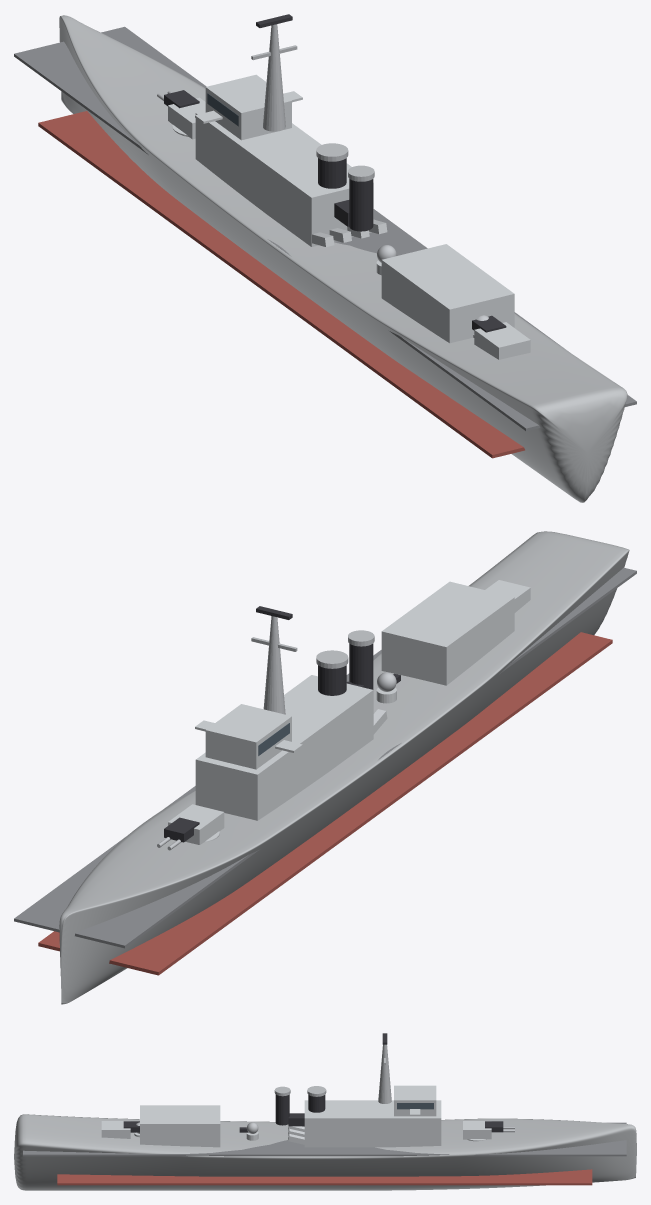
Rendered from ws-destroyer-01.fbx.
3 views of the same model, one above another, from view 1: azimuth 30°, elevation 25°; view 2: azimuth 150°, elevation 25°; view 3: azimuth 270°, elevation 25° (orthographic). The views are drawn at different scales.
Visible parts, largest first — view 1: ws-destroyer-01, waterline-belt, deckhouse, hangar, main-deck, bridge, main-mast, turret_aft-housing, funnel-2, turret_fwd-housing, funnel-1; view 2: ws-destroyer-01, waterline-belt, deckhouse, hangar, main-deck, bridge, main-mast, turret_fwd-housing, funnel-2, funnel-1, turret_aft-housing; view 3: ws-destroyer-01, waterline-belt, deckhouse, main-deck, hangar, bridge, main-mast, turret_fwd-housing, turret_aft-housing, funnel-2, funnel-1, bridge-glass.
Boxes of the visible parts, box(x1,y1,x2,y2) form: ws-destroyer-01: box(59, 15, 627, 502); waterline-belt: box(38, 111, 524, 458); deckhouse: box(195, 110, 373, 246); hangar: box(381, 244, 514, 343); main-deck: box(14, 26, 636, 431); bridge: box(205, 74, 291, 140); main-mast: box(263, 24, 285, 131); turret_aft-housing: box(474, 322, 530, 359); funnel-2: box(349, 179, 373, 231); turret_fwd-housing: box(168, 97, 205, 139); funnel-1: box(318, 158, 346, 188); ws-destroyer-01: box(59, 531, 629, 1004); waterline-belt: box(38, 632, 612, 975); deckhouse: box(195, 675, 373, 820); hangar: box(381, 581, 514, 685); main-deck: box(14, 567, 636, 948); bridge: box(205, 704, 291, 769); main-mast: box(263, 616, 285, 714); turret_fwd-housing: box(168, 804, 224, 844); funnel-2: box(349, 643, 373, 689); funnel-1: box(318, 665, 346, 695); turret_aft-housing: box(485, 580, 530, 612); ws-destroyer-01: box(14, 1114, 636, 1190); waterline-belt: box(57, 1169, 592, 1185); deckhouse: box(304, 1100, 441, 1147); main-deck: box(23, 1122, 626, 1156); hangar: box(140, 1105, 220, 1147); bridge: box(394, 1085, 436, 1116); main-mast: box(378, 1044, 391, 1103); turret_fwd-housing: box(463, 1121, 491, 1139); turret_aft-housing: box(101, 1121, 130, 1138); funnel-2: box(275, 1094, 289, 1125); funnel-1: box(308, 1095, 325, 1112); bridge-glass: box(397, 1103, 433, 1109).
Size of what is drawn, in the model's own units: 20.4 by 41.93 by 155.
